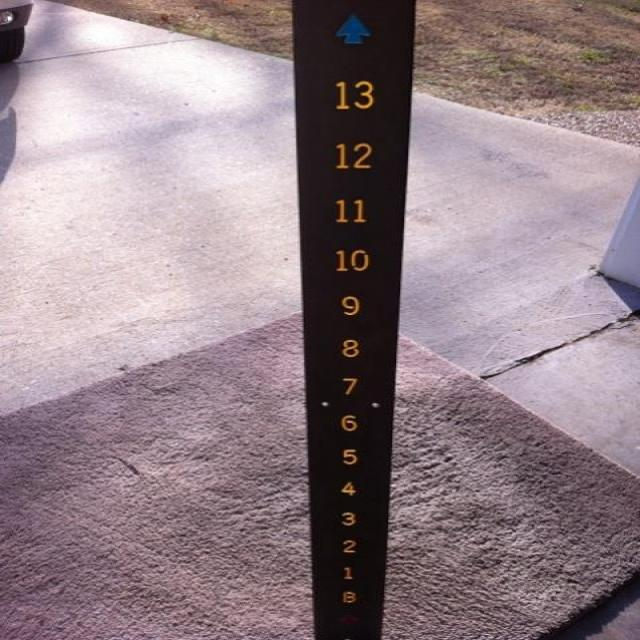1: (305, 564, 391, 580)
10: (295, 243, 404, 277)
11: (291, 192, 408, 226)
12: (290, 138, 410, 172)
13: (289, 75, 415, 112)
2: (305, 536, 388, 554)
3: (305, 508, 392, 528)
4: (303, 478, 393, 496)
5: (301, 444, 396, 466)
6: (300, 412, 396, 432)
7: (299, 374, 397, 396)
8: (297, 331, 400, 359)
9: (298, 287, 402, 320)
B: (304, 587, 387, 605)
up: (284, 13, 417, 45)
